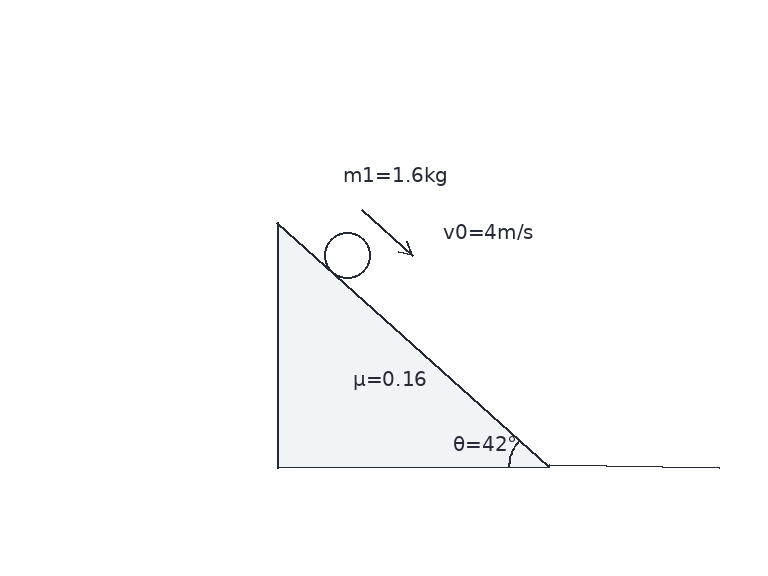ball: (322, 230, 372, 280)
ramp: (275, 220, 551, 469)
